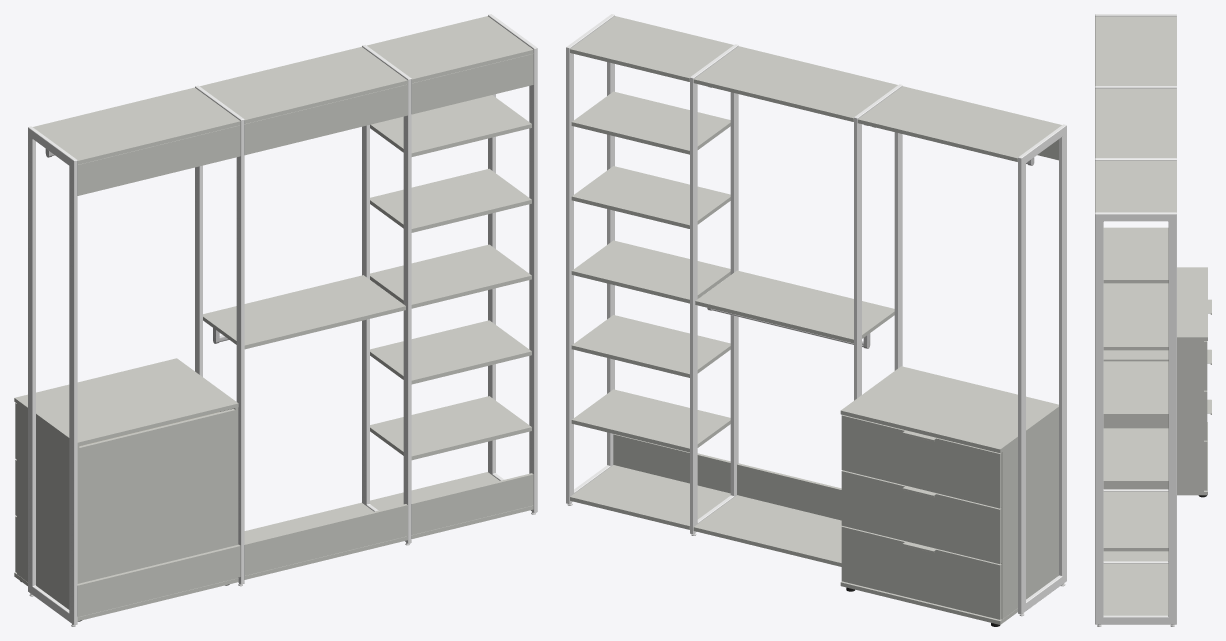
The model's file is dr_sys_a.glb.
3 renders of one model, left to right at view 1: azimuth 30°, elevation 25°; view 2: azimuth 150°, elevation 25°; view 3: azimuth 270°, elevation 25°, orthographic. The views are drawn at different scales.
Parts seen in each view (by area): view 1: node_372_StaticMeshComponent0, node_369_2_StaticMeshComponent0, node_1300_StaticMeshComponent0, node_363_StaticMeshComponent0, node_527_StaticMeshComponent0, node_371_StaticMeshComponent0, node_529_StaticMeshComponent0, node_629_StaticMeshComponent0, node_1268_StaticMeshComponent0, node_1016_StaticMeshComponent0, node_1271_StaticMeshComponent0, node_1272_StaticMeshComponent0 (+13 smaller); view 2: node_369_2_StaticMeshComponent0, node_381_2_StaticMeshComponent0, node_388_2_StaticMeshComponent0, node_374_StaticMeshComponent0, node_371_StaticMeshComponent0, node_1300_StaticMeshComponent0, node_363_StaticMeshComponent0, node_527_StaticMeshComponent0, node_629_StaticMeshComponent0, node_529_StaticMeshComponent0, node_531_StaticMeshComponent0, node_1268_StaticMeshComponent0 (+11 smaller); view 3: node_1039_StaticMeshComponent0, node_363_StaticMeshComponent0, node_527_StaticMeshComponent0, node_370_StaticMeshComponent0, node_1268_StaticMeshComponent0, node_1272_StaticMeshComponent0, node_1273_StaticMeshComponent0, node_1274_StaticMeshComponent0, node_1270_StaticMeshComponent0, node_1271_StaticMeshComponent0, node_1276_StaticMeshComponent0, node_369_2_StaticMeshComponent0 (+9 smaller).
Part boxes in pixels (x1,y1,x2,y2): node_372_StaticMeshComponent0: [79, 409, 235, 616]; node_369_2_StaticMeshComponent0: [14, 358, 238, 446]; node_1300_StaticMeshComponent0: [28, 126, 77, 625]; node_363_StaticMeshComponent0: [33, 87, 240, 164]; node_527_StaticMeshComponent0: [200, 46, 407, 123]; node_371_StaticMeshComponent0: [17, 404, 79, 617]; node_529_StaticMeshComponent0: [203, 275, 405, 349]; node_629_StaticMeshComponent0: [362, 44, 411, 543]; node_1268_StaticMeshComponent0: [367, 16, 533, 83]; node_1016_StaticMeshComponent0: [195, 85, 244, 584]; node_1271_StaticMeshComponent0: [370, 168, 531, 232]; node_1272_StaticMeshComponent0: [370, 244, 531, 308]; node_369_2_StaticMeshComponent0: [840, 366, 1058, 453]; node_381_2_StaticMeshComponent0: [841, 470, 1001, 563]; node_388_2_StaticMeshComponent0: [841, 526, 1001, 619]; node_374_StaticMeshComponent0: [841, 415, 1001, 508]; node_371_StaticMeshComponent0: [1001, 410, 1058, 619]; node_1300_StaticMeshComponent0: [1018, 124, 1066, 614]; node_363_StaticMeshComponent0: [857, 86, 1061, 161]; node_527_StaticMeshComponent0: [693, 46, 897, 121]; node_629_StaticMeshComponent0: [690, 44, 738, 534]; node_529_StaticMeshComponent0: [695, 270, 894, 343]; node_531_StaticMeshComponent0: [693, 495, 841, 566]; node_1268_StaticMeshComponent0: [570, 16, 733, 81]; node_1039_StaticMeshComponent0: [1095, 212, 1176, 624]; node_363_StaticMeshComponent0: [1095, 16, 1176, 85]; node_527_StaticMeshComponent0: [1095, 88, 1176, 157]; node_370_StaticMeshComponent0: [1103, 341, 1203, 491]; node_1268_StaticMeshComponent0: [1095, 160, 1176, 212]; node_1272_StaticMeshComponent0: [1103, 361, 1168, 417]; node_1273_StaticMeshComponent0: [1103, 428, 1168, 484]; node_1274_StaticMeshComponent0: [1103, 495, 1168, 551]; node_1270_StaticMeshComponent0: [1103, 227, 1168, 283]; node_1271_StaticMeshComponent0: [1103, 294, 1168, 350]; node_1276_StaticMeshComponent0: [1103, 563, 1168, 615]; node_369_2_StaticMeshComponent0: [1103, 267, 1207, 340].
Size of the model in its own units: 2.26 by 2.17 by 0.5557.
5 materials, 2 textured.
